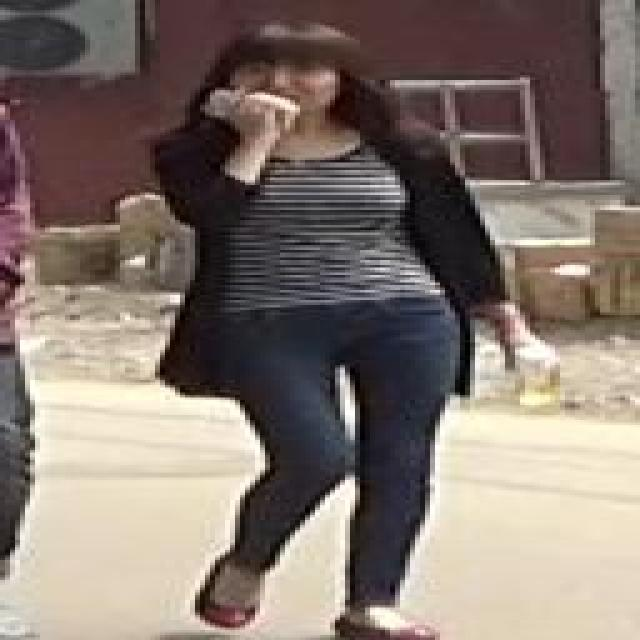adult: (135, 15, 560, 640)
